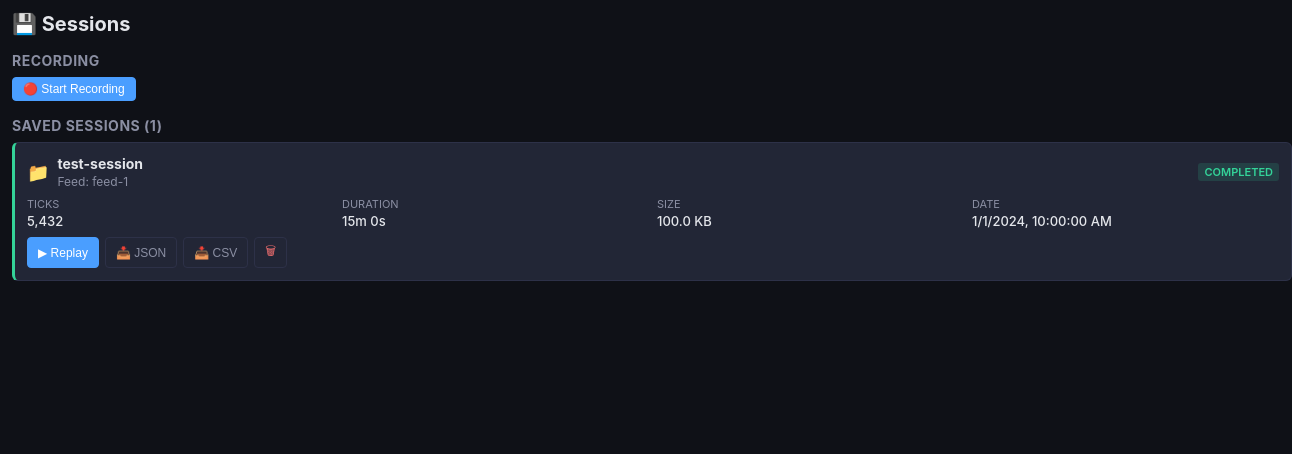
Scenario: SessionManager › replay panel can be closed
Expected: the text "test-session" is shown, [58,155,143,172]
Click the button "▶ Replay": (63, 252) [27,237,99,268]
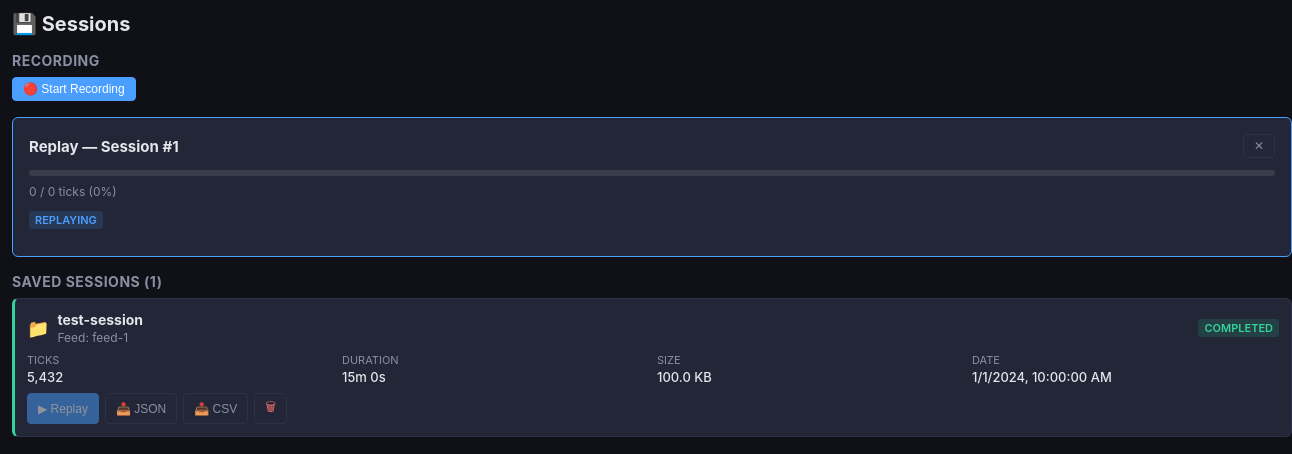
Now the heading "Replay — Session #1" is shown, box [29,136,179,156]
Click the button "✕": (1259, 146) [1243,134,1275,158]
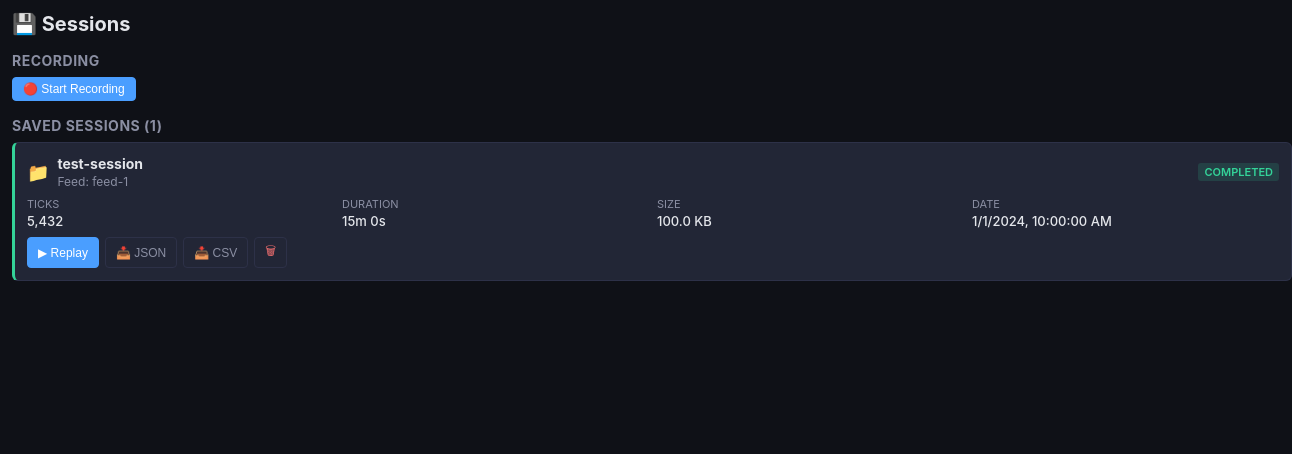
Now the heading "Replay — Session #1" is gone
